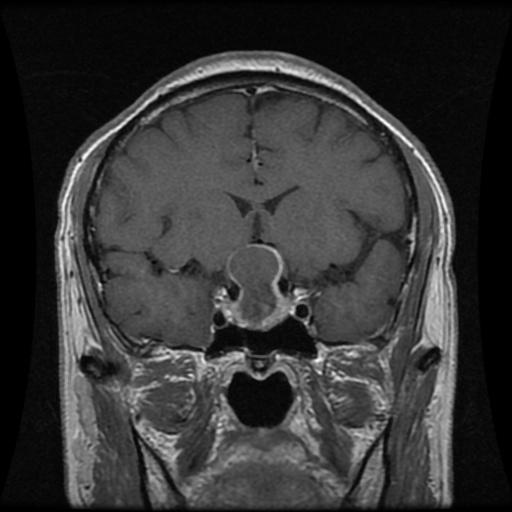pituitary: (219, 244, 294, 330)
